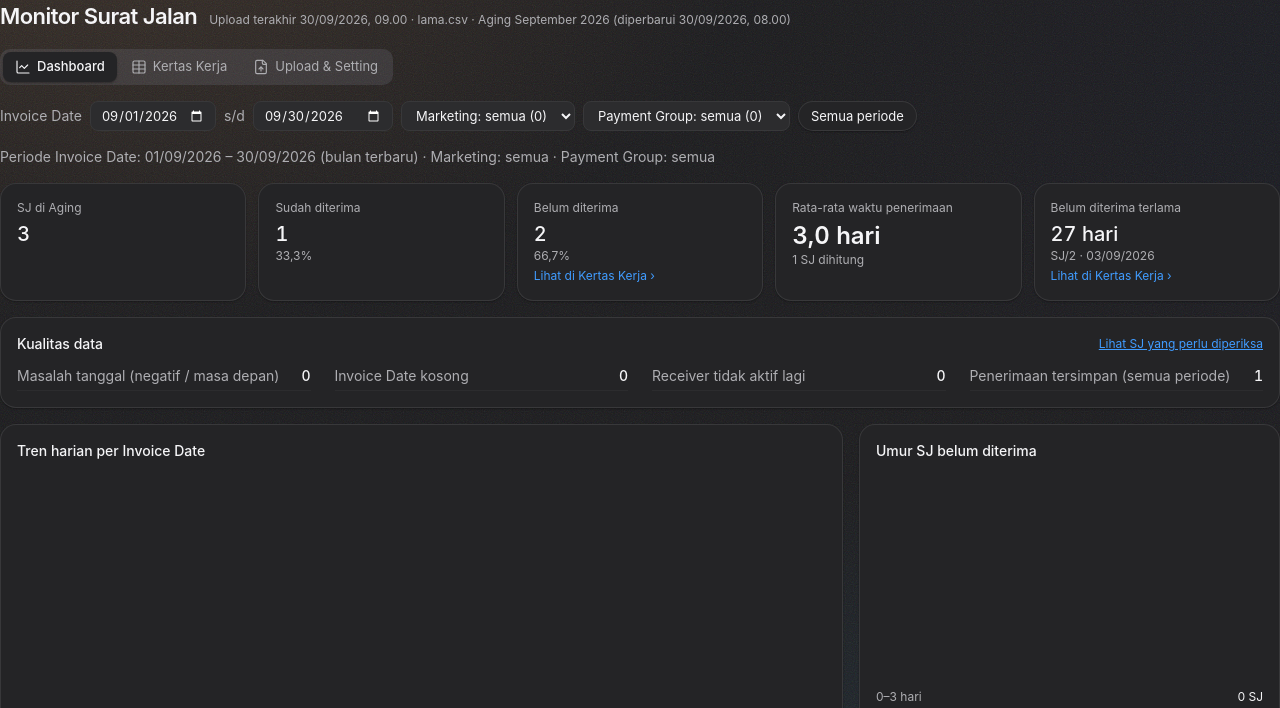
Test: Monitor Surat Jalan — tampilan › non-Controller: upload & pengaturan Receiver nonaktif dengan penjelasan
This screenshot has width=1280, height=708.
Click the tab "Upload & Setting".
click(316, 67)  # box [241,52,390,82]
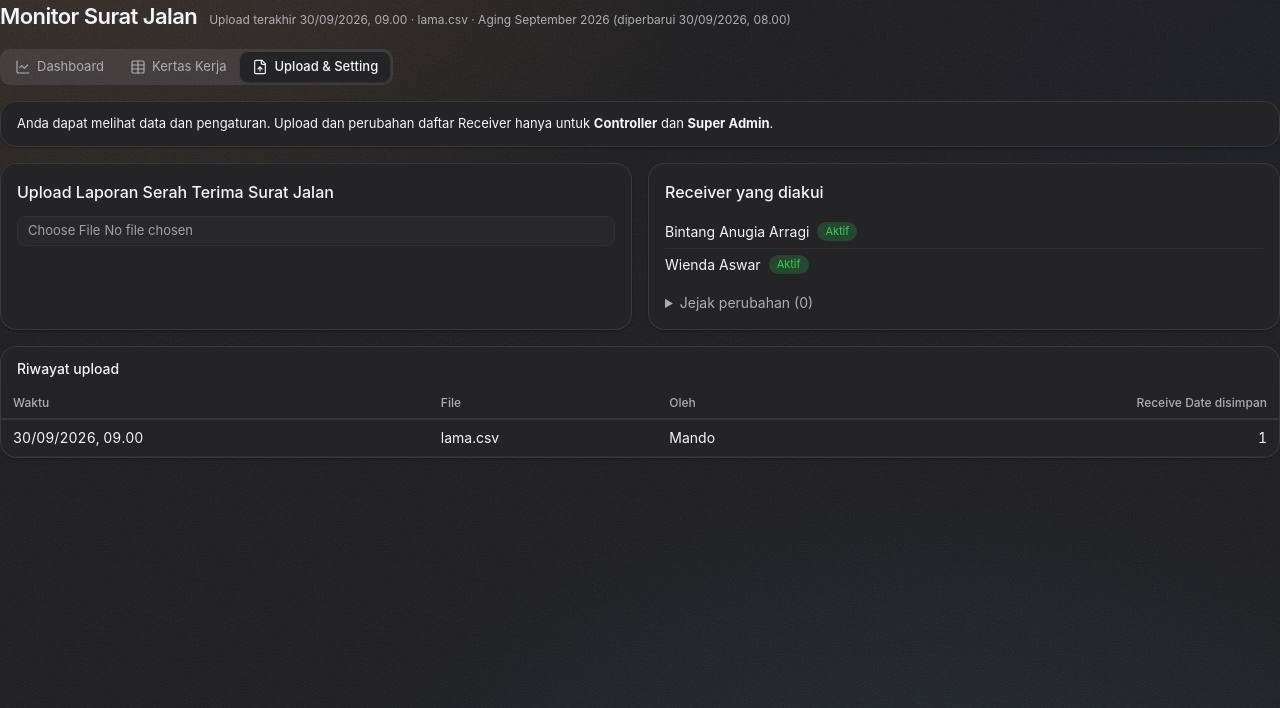
Result: the file field is disabled at [17,216,615,246]
Result: the text "hanya untuk Controller dan Super Admin" is shown at [0,101,1279,146]
